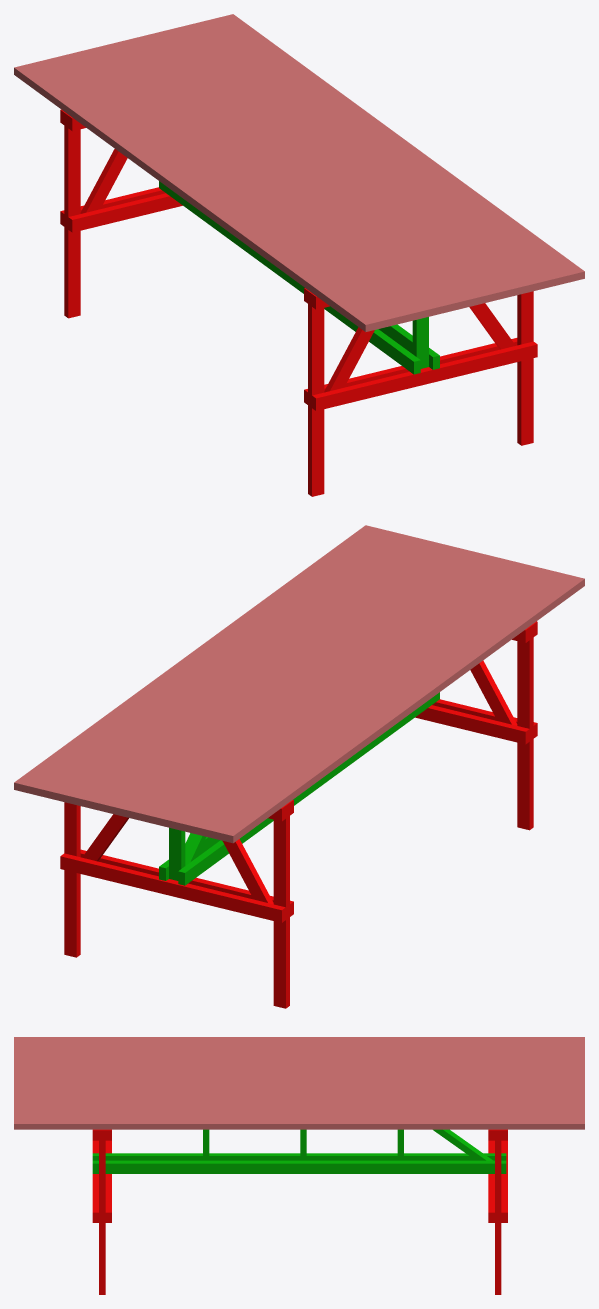
File: result.glb
The picture shows the model from 3 angles, top to bottom: view 1: azimuth 30°, elevation 25°; view 2: azimuth 150°, elevation 25°; view 3: azimuth 270°, elevation 25°; orthographic projection. The views are drawn at different scales.
Parts seen in each view (by area): view 1: 1c99b999-70ee-4e94-903d-15003a0c9ea7__Box, fa2778ea-2cc8-48b3-97d4-7e811a64d1ea__undefined, 6443da18-0156-47c4-8067-b2403b26fd07__undefined, d251899e-68f4-4627-852b-2b6715d9e6d6__undefined, 8b51ed66-fe86-42dc-b916-23acee50c6e0__undefined, 1c6765e5-cf78-4f92-8597-57fef5435d99__undefined, e1ad662a-d3af-447d-a60a-7fa52f7ffa91__undefined, c1f9264f-0588-447d-a787-642fdc4888e6__undefined, e967e5b8-a18c-461e-b8a9-0f4cca93fb89__undefined, de1d4f0e-570c-4e86-acf4-8ce8a2d47819__undefined, 4bc7e8c0-88d7-4f0d-87d1-f6cc72f066b4__undefined, 9d2c7127-afee-41ce-9610-7eec51b6cc68__undefined (+18 smaller); view 2: 1c99b999-70ee-4e94-903d-15003a0c9ea7__Box, c05a7566-19c3-48c5-a05e-6032347feebf__undefined, 1c6765e5-cf78-4f92-8597-57fef5435d99__undefined, 0795f7e0-2570-4b6d-baf8-647a31ddba41__undefined, e967e5b8-a18c-461e-b8a9-0f4cca93fb89__undefined, 4bc7e8c0-88d7-4f0d-87d1-f6cc72f066b4__undefined, 9156dd7c-fb1f-4b0e-bfe3-8011e1c5f3d5__undefined, 8b51ed66-fe86-42dc-b916-23acee50c6e0__undefined, afa0174a-b5b8-4ddc-8bcb-8d542e91f3ec__undefined, d251899e-68f4-4627-852b-2b6715d9e6d6__undefined, fa2778ea-2cc8-48b3-97d4-7e811a64d1ea__undefined, e1ad662a-d3af-447d-a60a-7fa52f7ffa91__undefined (+17 smaller); view 3: 0795f7e0-2570-4b6d-baf8-647a31ddba41__undefined, a6c2d7e8-8b9c-481f-8e05-50a5f90ddb72__strutH, c1f9264f-0588-447d-a787-642fdc4888e6__undefined, e967e5b8-a18c-461e-b8a9-0f4cca93fb89__undefined, d251899e-68f4-4627-852b-2b6715d9e6d6__undefined, 9d2c7127-afee-41ce-9610-7eec51b6cc68__undefined, afa0174a-b5b8-4ddc-8bcb-8d542e91f3ec__undefined, 1c6765e5-cf78-4f92-8597-57fef5435d99__undefined, e1ad662a-d3af-447d-a60a-7fa52f7ffa91__undefined, 6443da18-0156-47c4-8067-b2403b26fd07__undefined, f7dddd66-4562-4dc6-ae5a-93723f6467b5__strutH, 1c99b999-70ee-4e94-903d-15003a0c9ea7__Box (+15 smaller).
Part boxes in pixels (box(x1,y1,x2,y2)): 1c99b999-70ee-4e94-903d-15003a0c9ea7__Box: box(14, 64, 377, 331); fa2778ea-2cc8-48b3-97d4-7e811a64d1ea__undefined: box(148, 32, 511, 299); 6443da18-0156-47c4-8067-b2403b26fd07__undefined: box(197, 20, 560, 287); d251899e-68f4-4627-852b-2b6715d9e6d6__undefined: box(63, 52, 426, 320); 8b51ed66-fe86-42dc-b916-23acee50c6e0__undefined: box(99, 44, 463, 311); 1c6765e5-cf78-4f92-8597-57fef5435d99__undefined: box(173, 26, 536, 293); e1ad662a-d3af-447d-a60a-7fa52f7ffa91__undefined: box(185, 23, 548, 290); c1f9264f-0588-447d-a787-642fdc4888e6__undefined: box(38, 58, 402, 326); e967e5b8-a18c-461e-b8a9-0f4cca93fb89__undefined: box(51, 55, 414, 323); de1d4f0e-570c-4e86-acf4-8ce8a2d47819__undefined: box(75, 50, 438, 316); 4bc7e8c0-88d7-4f0d-87d1-f6cc72f066b4__undefined: box(87, 47, 450, 314); 9d2c7127-afee-41ce-9610-7eec51b6cc68__undefined: box(112, 41, 475, 308); 1c99b999-70ee-4e94-903d-15003a0c9ea7__Box: box(221, 576, 584, 843); c05a7566-19c3-48c5-a05e-6032347feebf__undefined: box(99, 546, 462, 813); 1c6765e5-cf78-4f92-8597-57fef5435d99__undefined: box(62, 537, 425, 804); 0795f7e0-2570-4b6d-baf8-647a31ddba41__undefined: box(14, 525, 377, 792); e967e5b8-a18c-461e-b8a9-0f4cca93fb89__undefined: box(184, 567, 547, 834); 4bc7e8c0-88d7-4f0d-87d1-f6cc72f066b4__undefined: box(148, 558, 511, 825); 9156dd7c-fb1f-4b0e-bfe3-8011e1c5f3d5__undefined: box(26, 528, 389, 795); 8b51ed66-fe86-42dc-b916-23acee50c6e0__undefined: box(135, 555, 499, 822); afa0174a-b5b8-4ddc-8bcb-8d542e91f3ec__undefined: box(111, 549, 474, 816); d251899e-68f4-4627-852b-2b6715d9e6d6__undefined: box(172, 564, 535, 831); fa2778ea-2cc8-48b3-97d4-7e811a64d1ea__undefined: box(87, 543, 450, 810); e1ad662a-d3af-447d-a60a-7fa52f7ffa91__undefined: box(50, 534, 413, 801); 0795f7e0-2570-4b6d-baf8-647a31ddba41__undefined: box(14, 1119, 584, 1129); a6c2d7e8-8b9c-481f-8e05-50a5f90ddb72__strutH: box(92, 1160, 506, 1173); c1f9264f-0588-447d-a787-642fdc4888e6__undefined: box(14, 1046, 584, 1051); e967e5b8-a18c-461e-b8a9-0f4cca93fb89__undefined: box(14, 1051, 584, 1056); d251899e-68f4-4627-852b-2b6715d9e6d6__undefined: box(14, 1056, 584, 1061); 9d2c7127-afee-41ce-9610-7eec51b6cc68__undefined: box(14, 1075, 584, 1080); afa0174a-b5b8-4ddc-8bcb-8d542e91f3ec__undefined: box(14, 1080, 584, 1085); 1c6765e5-cf78-4f92-8597-57fef5435d99__undefined: box(14, 1099, 584, 1104); e1ad662a-d3af-447d-a60a-7fa52f7ffa91__undefined: box(14, 1104, 584, 1109); 6443da18-0156-47c4-8067-b2403b26fd07__undefined: box(14, 1109, 584, 1114); f7dddd66-4562-4dc6-ae5a-93723f6467b5__strutH: box(92, 1153, 506, 1160); 1c99b999-70ee-4e94-903d-15003a0c9ea7__Box: box(14, 1037, 584, 1041).
Bounding box in the file's own units: 800 × 725 × 2200.
